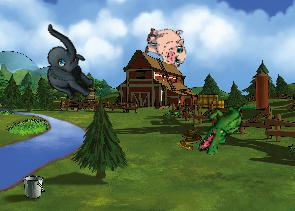crocodile: (196, 94, 247, 161)
elephant: (22, 23, 110, 106)
pig: (141, 23, 190, 69)
